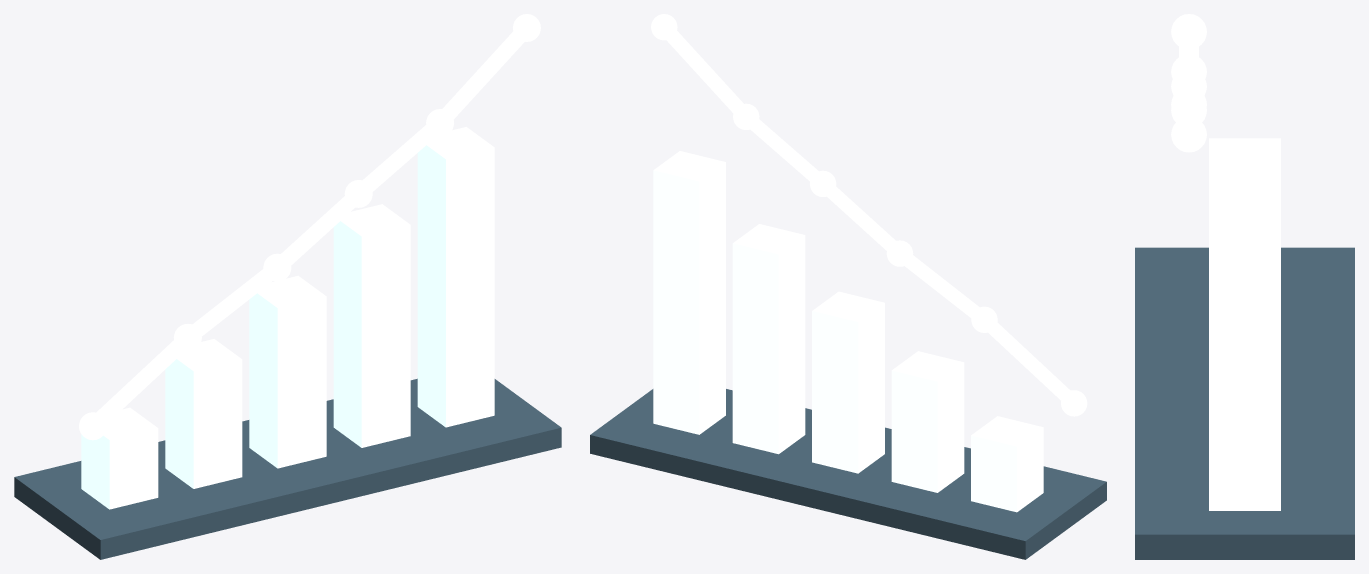
Rendered from plan_17.glb.
3 views of the same model, side by side, from view 1: azimuth 30°, elevation 25°; view 2: azimuth 150°, elevation 25°; view 3: azimuth 270°, elevation 25° (orthographic). The views are drawn at different scales.
Parts seen in each view (by area): view 1: chart_base, bar4, bar3, bar2, bar1, bar0, growth_line_0, growth_line_4, growth_line_1, growth_line_2, growth_line_3; view 2: chart_base, bar4, bar3, bar2, bar1, bar0, growth_line_4, growth_line_0, growth_line_1, growth_line_2, growth_line_3; view 3: chart_base, bar4, growth_node5, growth_node4, growth_node0, growth_line_4, growth_node2, growth_node3.
Part boxes in pixels (x1=…): chart_base: x1=14, y1=378, x2=561, y2=559; bar4: x1=417, y1=127, x2=494, y2=427; bar3: x1=333, y1=204, x2=410, y2=447; bar2: x1=249, y1=275, x2=326, y2=468; bar1: x1=165, y1=339, x2=242, y2=488; bar0: x1=81, y1=407, x2=158, y2=509; growth_line_0: x1=96, y1=340, x2=184, y2=423; growth_line_4: x1=442, y1=31, x2=524, y2=119; growth_line_1: x1=192, y1=268, x2=272, y2=336; growth_line_2: x1=281, y1=196, x2=355, y2=265; growth_line_3: x1=362, y1=124, x2=436, y2=191; chart_base: x1=590, y1=389, x2=1106, y2=559; bar4: x1=653, y1=151, x2=725, y2=434; bar3: x1=732, y1=224, x2=805, y2=454; bar2: x1=812, y1=291, x2=884, y2=473; bar1: x1=891, y1=351, x2=964, y2=492; bar0: x1=971, y1=416, x2=1043, y2=512; growth_line_4: x1=666, y1=30, x2=743, y2=113; growth_line_0: x1=987, y1=322, x2=1070, y2=400; growth_line_1: x1=904, y1=254, x2=979, y2=317; growth_line_2: x1=826, y1=186, x2=895, y2=250; growth_line_3: x1=749, y1=119, x2=818, y2=181; chart_base: x1=1135, y1=247, x2=1354, y2=559; bar4: x1=1209, y1=138, x2=1280, y2=510; growth_node5: x1=1171, y1=14, x2=1206, y2=49; growth_node4: x1=1171, y1=57, x2=1206, y2=89; growth_node0: x1=1171, y1=123, x2=1206, y2=152; growth_line_4: x1=1179, y1=47, x2=1198, y2=77; growth_node2: x1=1171, y1=96, x2=1206, y2=122; growth_node3: x1=1171, y1=79, x2=1206, y2=104.
Bounding box in the file's own units: 1.82 × 1.58 × 0.5888.
